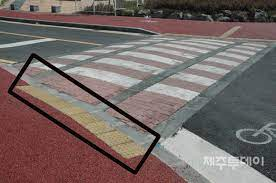guide_blocks: (74, 111, 110, 131), (111, 133, 141, 153), (167, 35, 275, 40), (42, 95, 71, 109), (17, 84, 48, 92), (222, 26, 242, 33)
